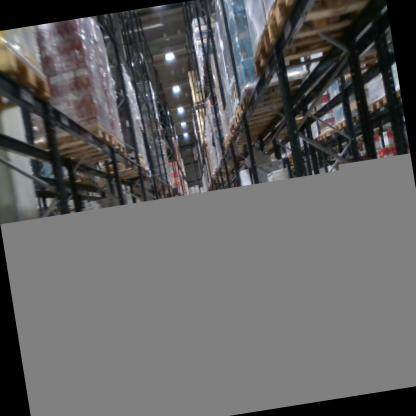pallet: (249, 14, 374, 79), (260, 0, 385, 39), (30, 122, 118, 168), (0, 37, 53, 112), (236, 78, 308, 117), (228, 95, 305, 131), (72, 136, 130, 170), (223, 125, 275, 149), (227, 114, 265, 140), (101, 155, 146, 176), (370, 94, 388, 114), (346, 110, 366, 126), (333, 117, 349, 137), (319, 126, 337, 143), (388, 85, 401, 102), (307, 135, 321, 146)
